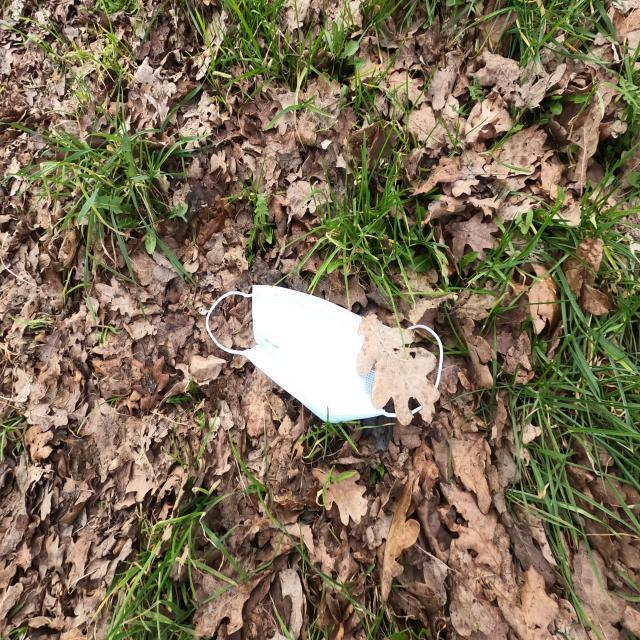Mask: (200, 286, 444, 428)
